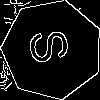S: (27, 24, 80, 67)
